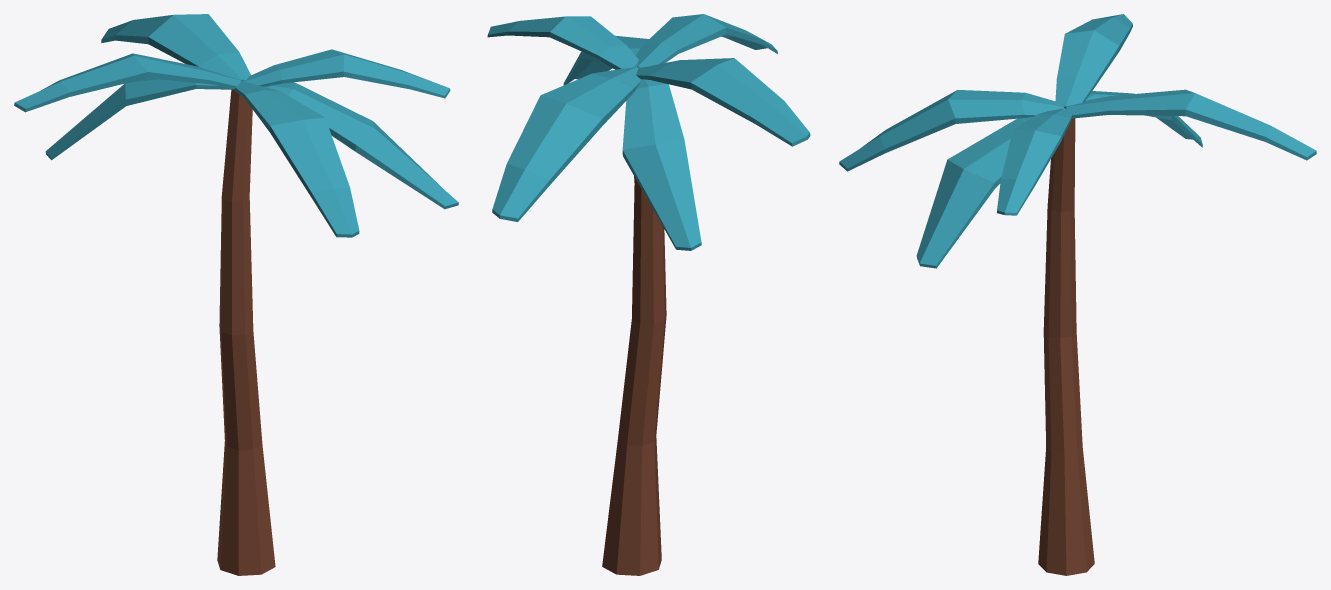
File: Tree_38_summer_blue_vc.fbx
3 views of the same model, side by side, from view 1: azimuth 30°, elevation 25°; view 2: azimuth 150°, elevation 25°; view 3: azimuth 270°, elevation 25° (orthographic). The views are drawn at different scales.
Parts seen in each view (by area): view 1: Tree_38_summer_blue_vc; view 2: Tree_38_summer_blue_vc; view 3: Tree_38_summer_blue_vc.
Part boxes in pixels (box(x1,y1,x2,y2)): Tree_38_summer_blue_vc: box(14, 14, 458, 575); Tree_38_summer_blue_vc: box(487, 14, 810, 575); Tree_38_summer_blue_vc: box(839, 14, 1316, 575).
Bounding box in the file's own units: 160 × 214 × 189.
